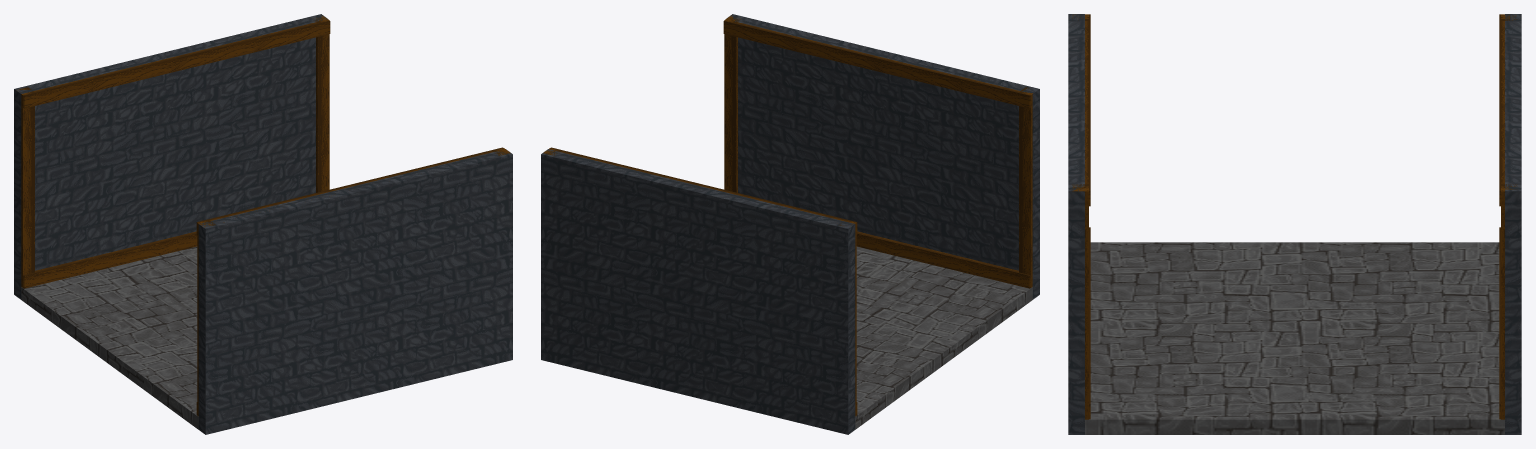
File: Flur V2.fbx
3 views of the same model, side by side, from view 1: azimuth 30°, elevation 25°; view 2: azimuth 150°, elevation 25°; view 3: azimuth 270°, elevation 25° (orthographic). The views are drawn at different scales.
Visible parts, largest first — view 1: Flur V2.002, Flur V2.003, Flur V2.001; view 2: Flur V2.003, Flur V2.002, Flur V2.001; view 3: Flur V2.001, Flur V2.002, Flur V2.003.
Boxes of the visible parts, x1,y1,x2,y2 form: Flur V2.002: (196, 147, 512, 434); Flur V2.003: (14, 14, 330, 299); Flur V2.001: (21, 246, 198, 429); Flur V2.003: (541, 147, 857, 434); Flur V2.002: (723, 14, 1039, 299); Flur V2.001: (855, 246, 1032, 429); Flur V2.001: (1085, 242, 1504, 434); Flur V2.002: (1068, 14, 1090, 434); Flur V2.003: (1499, 14, 1521, 434).
Size of the model in its own units: 500 by 540 by 320.
1 material, 1 textured.
